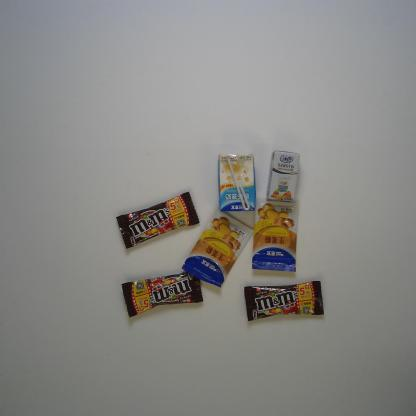Chocolate: (115, 191, 200, 250), (121, 270, 204, 318), (244, 281, 324, 321)
Milk: (218, 154, 256, 212), (266, 150, 300, 203)
Seasoner: (181, 210, 254, 289), (252, 200, 299, 272)
